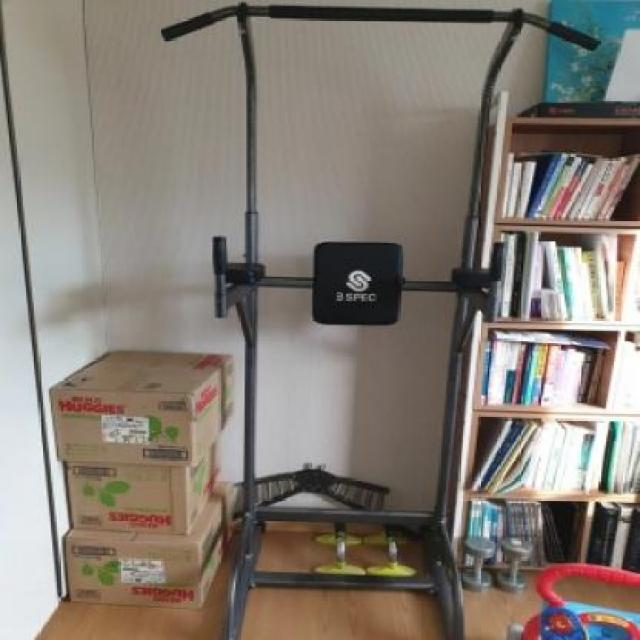chinning dipping: (160, 0, 600, 640)
